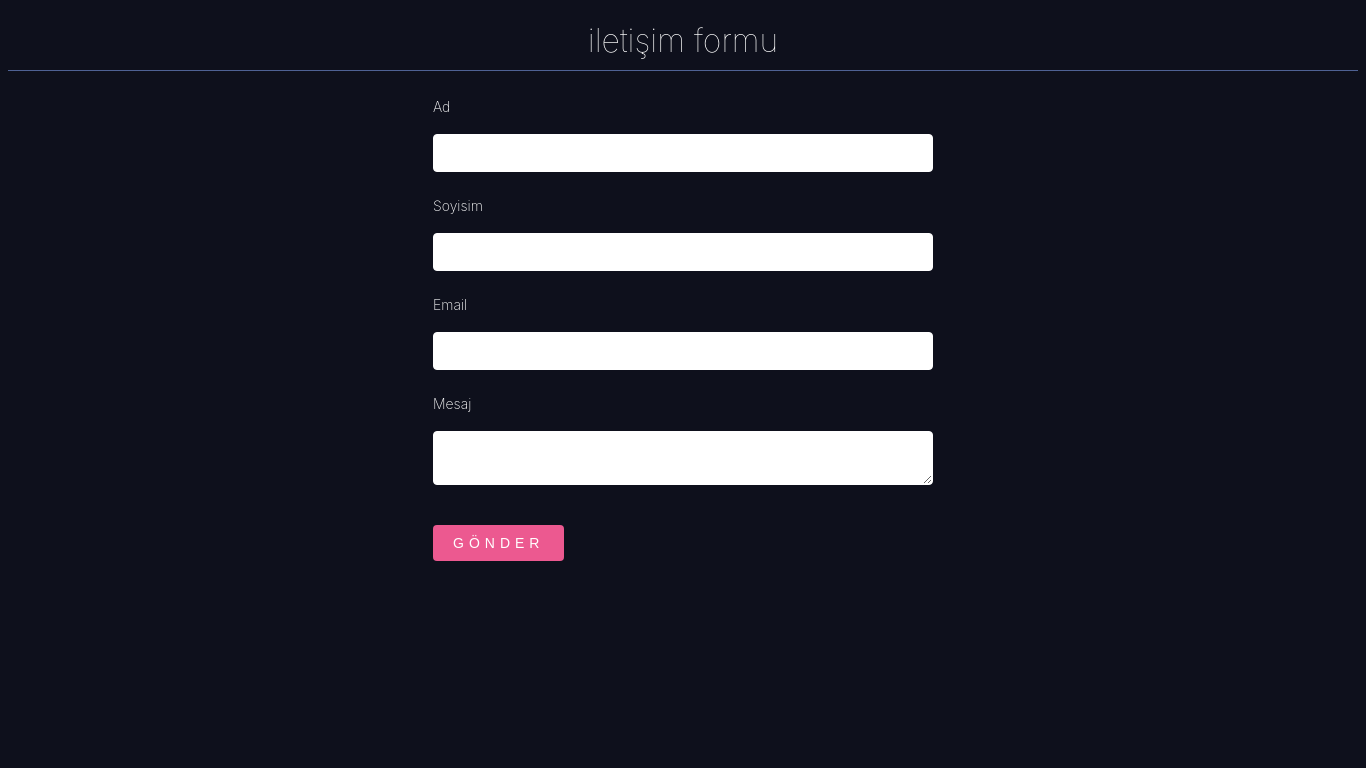
Test: [9] form gönderildiğinde girilen tüm değerler render ediliyor.
The width and height of the screenshot is (1366, 768).
In the field with test id "name": x=683, y=153 [433, 134, 933, 172], type "Caner"
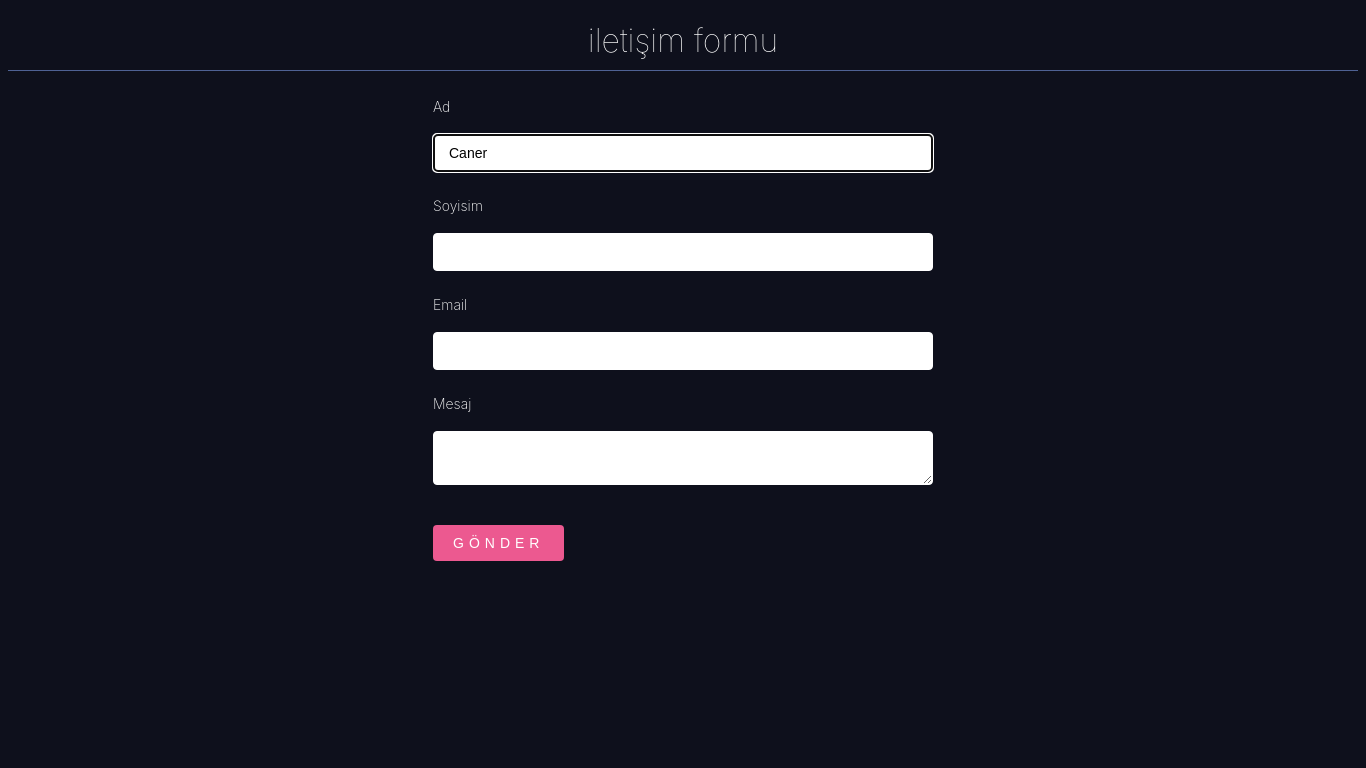
In the field with test id "surname": x=683, y=252 [433, 233, 933, 271], type "Yılmaz"
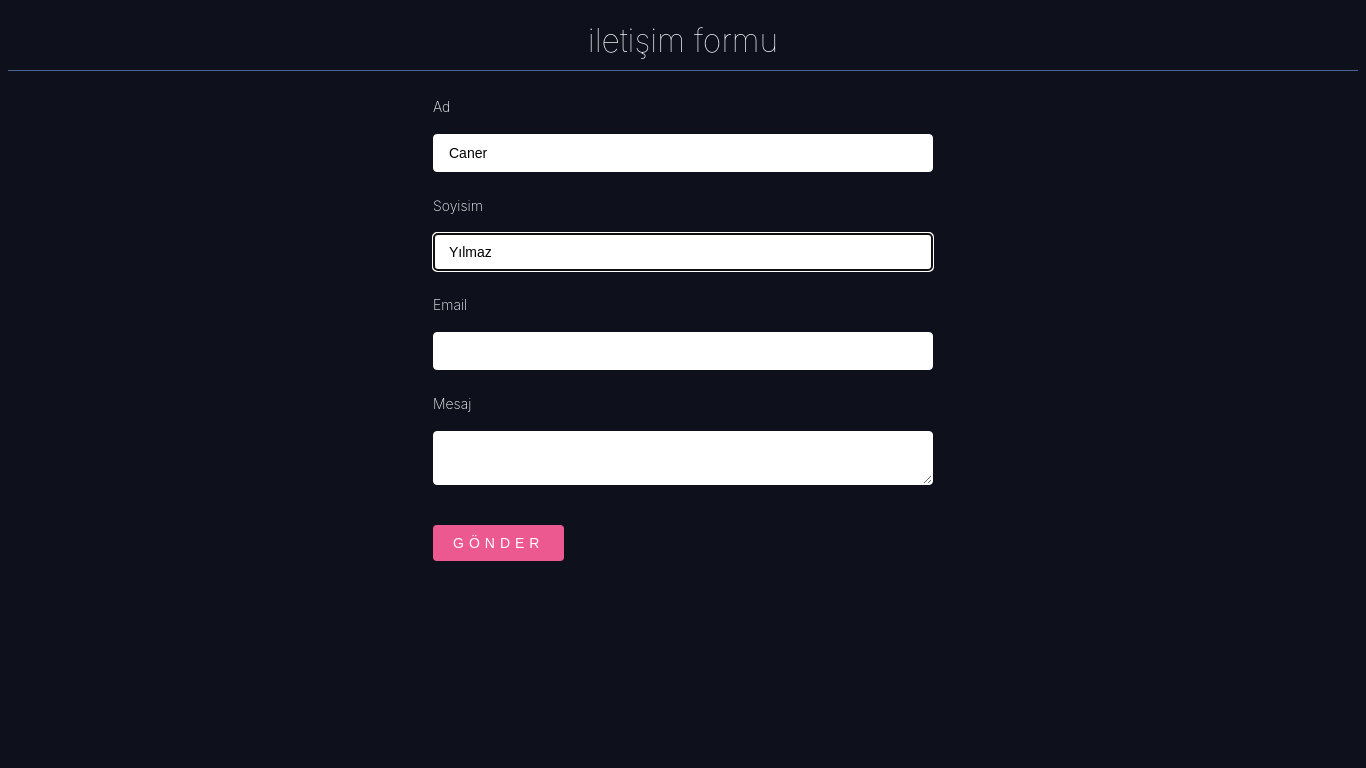
In the field with test id "email": x=683, y=351 [433, 332, 933, 370], type "test@test.com"
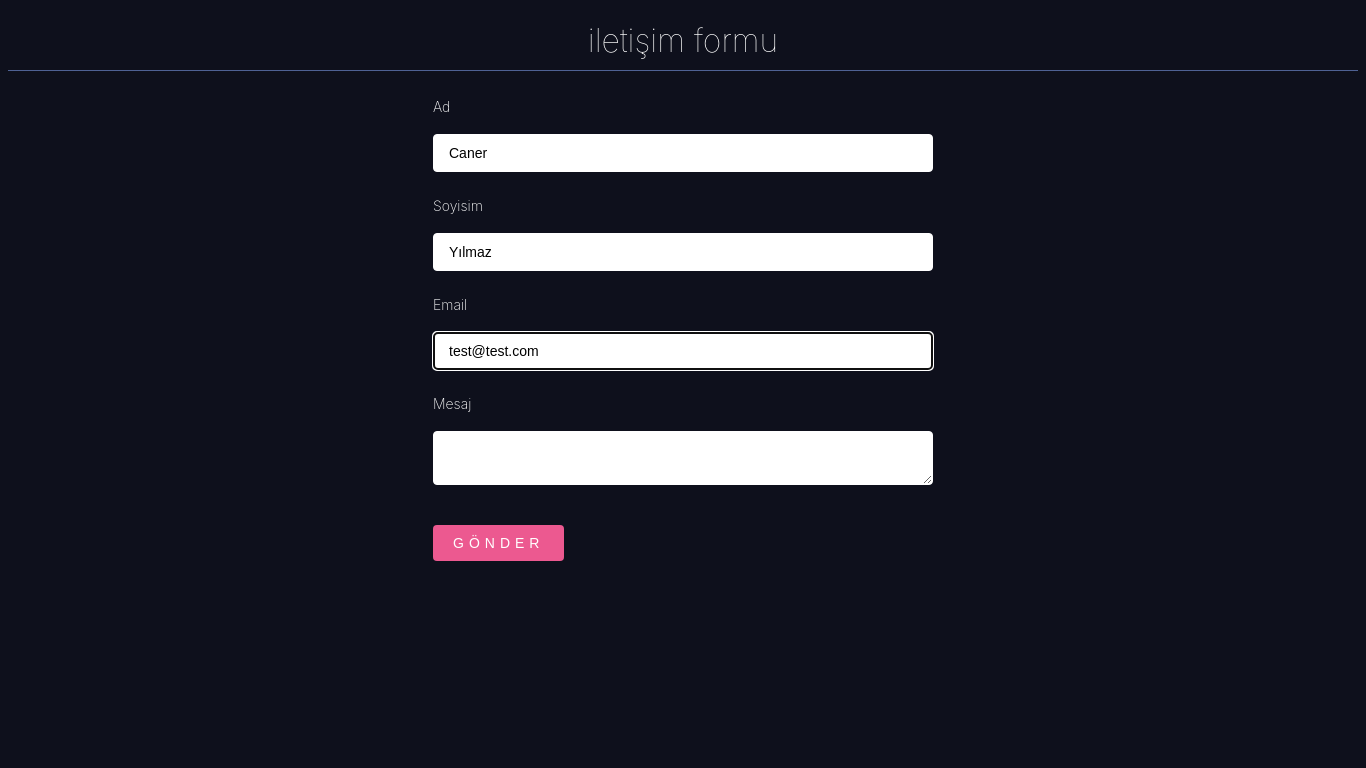
Click the button: x=499, y=543 [433, 525, 564, 561]
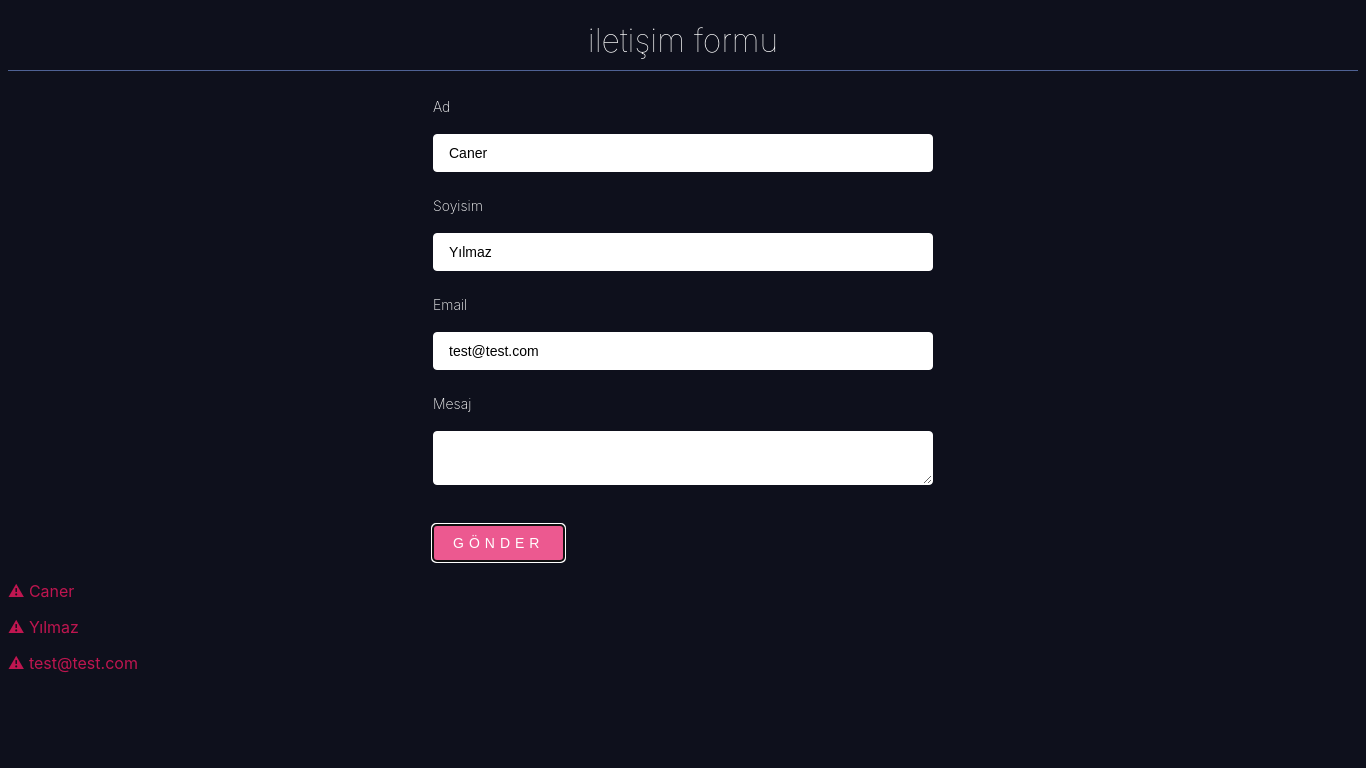
Now the text "Caner" is shown, box [29, 581, 74, 601]
Now the text "Yılmaz" is shown, box [29, 617, 79, 637]
Now the text "test@test.com" is shown, box [29, 653, 138, 673]
